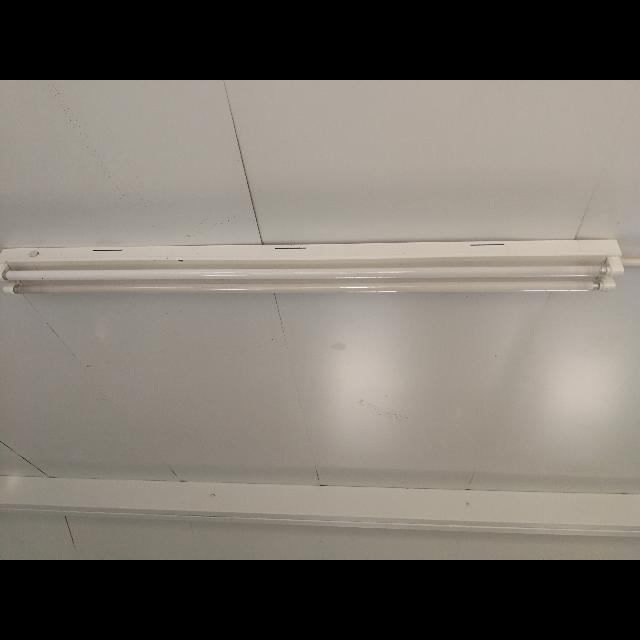Straight-Tube-Fluorescent-Lamp: (2, 236, 628, 312)
